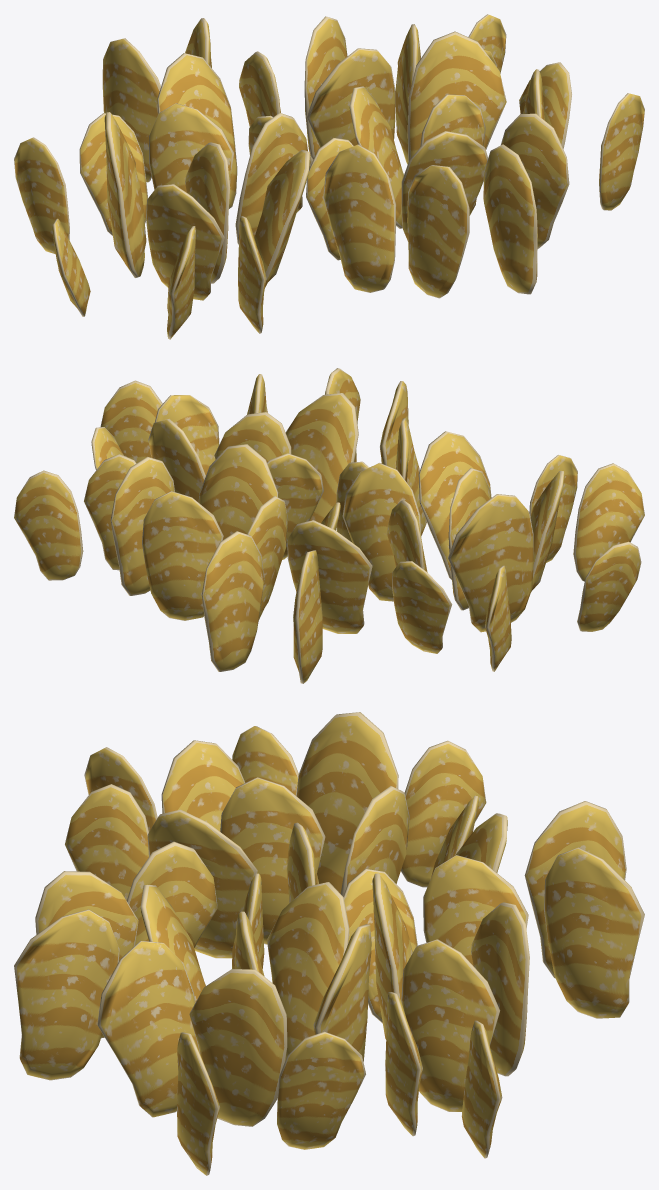
Rendered from brooksiMussel00b.fbx.
3 renders of one model, top to bottom at view 1: azimuth 30°, elevation 25°; view 2: azimuth 150°, elevation 25°; view 3: azimuth 270°, elevation 25°, orthographic. The views are drawn at different scales.
Visible parts, largest first — view 1: brookskiMussel_group; view 2: brookskiMussel_group; view 3: brookskiMussel_group.
Boxes of the visible parts, x1=… form: brookskiMussel_group: x1=14, y1=14, x2=644, y2=339; brookskiMussel_group: x1=14, y1=368, x2=644, y2=683; brookskiMussel_group: x1=14, y1=712, x2=644, y2=1175.
Bounding box in the file's own units: 1.06 × 0.2823 × 0.8109.
Materials: 1 (1 with a texture image).
